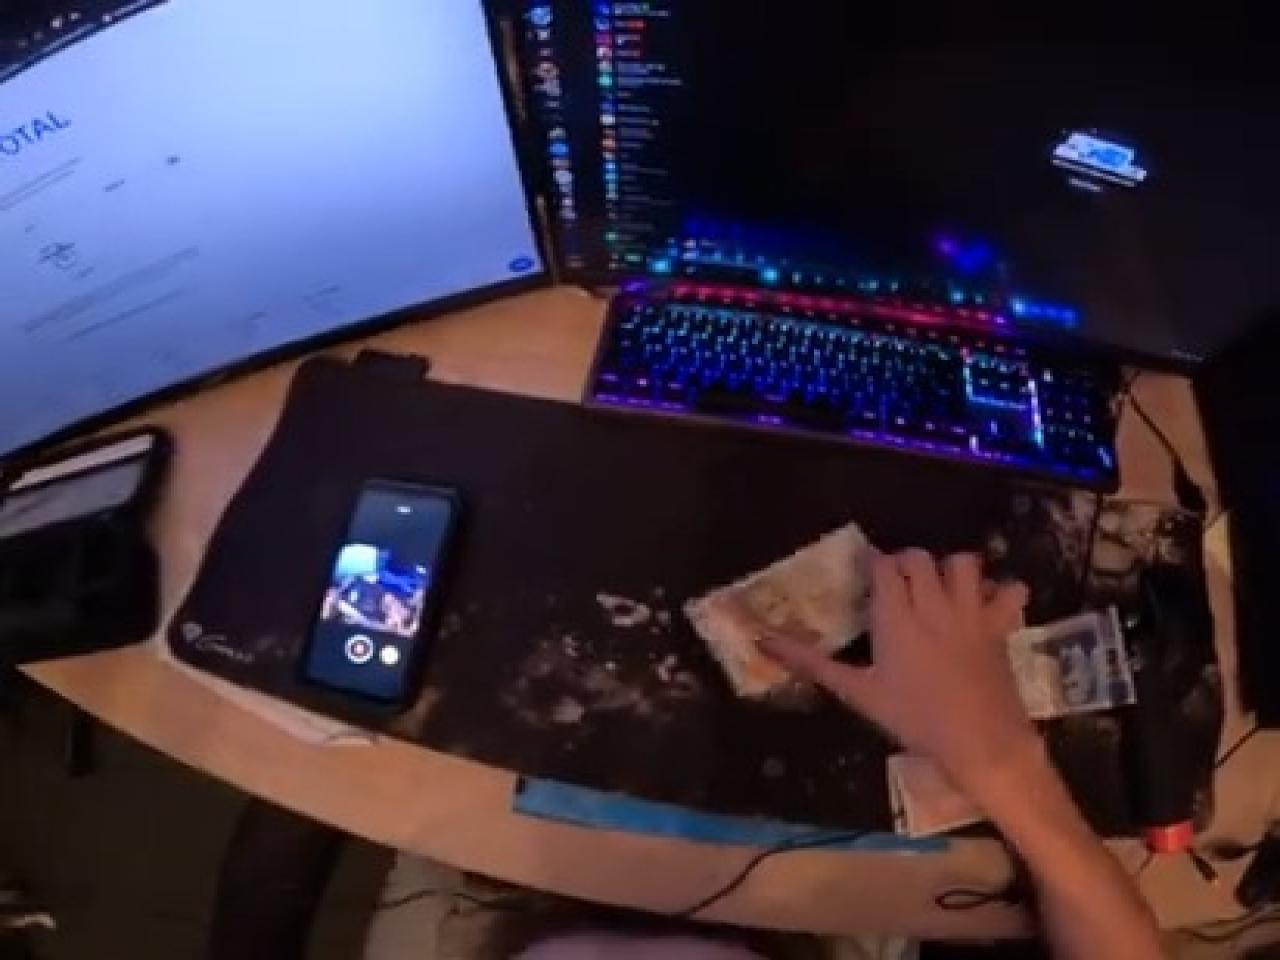50leva: (683, 528, 889, 701)
